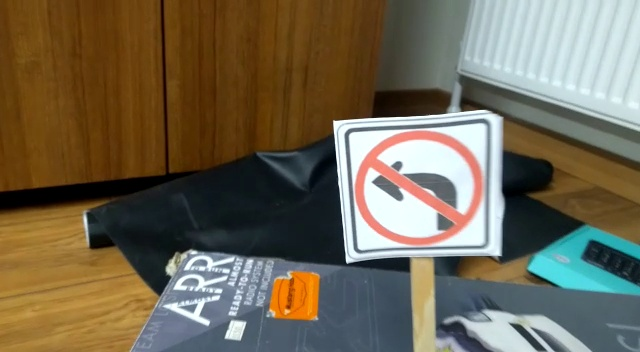sola_donulmez: (351, 124, 487, 253)
